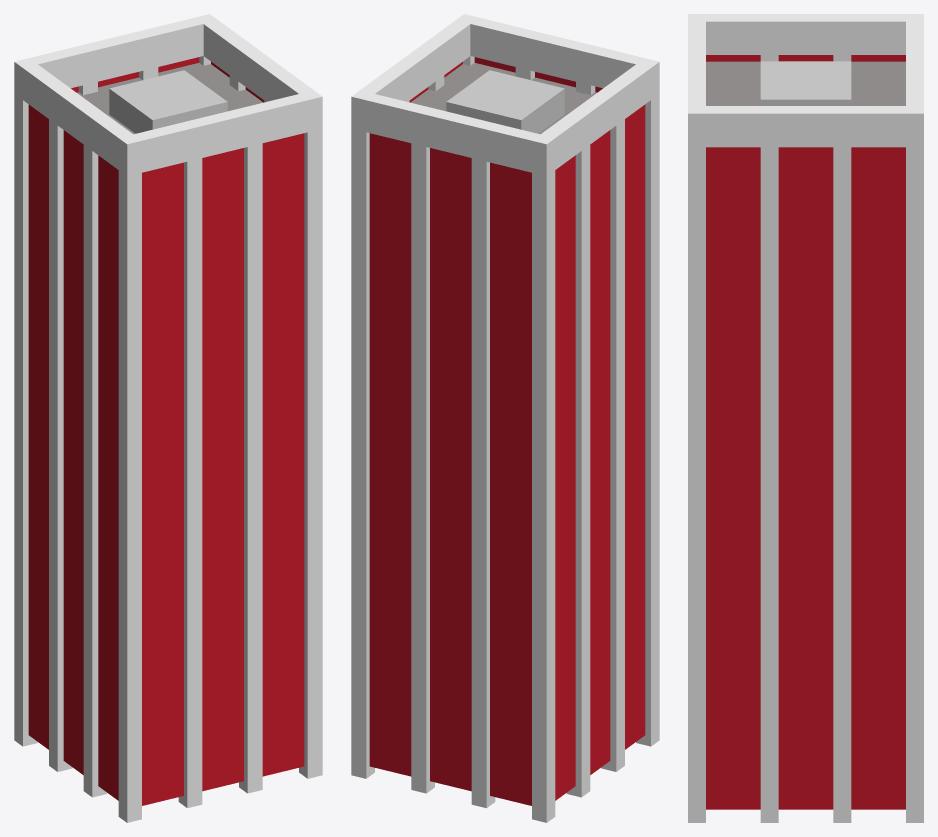
The picture shows the model from 3 angles, left to right: view 1: azimuth 30°, elevation 25°; view 2: azimuth 150°, elevation 25°; view 3: azimuth 270°, elevation 25°; orthographic projection. The views are drawn at different scales.
Visible parts, largest first — view 1: gedung 8; view 2: gedung 8; view 3: gedung 8.
Boxes of the visible parts, left/top/right/bottom form: gedung 8: left=14, top=14, right=322, bottom=822; gedung 8: left=351, top=14, right=659, bottom=822; gedung 8: left=688, top=14, right=923, bottom=822.
Size of the model in its own units: 13.52 by 44.85 by 13.52.
4 materials, 1 textured.
